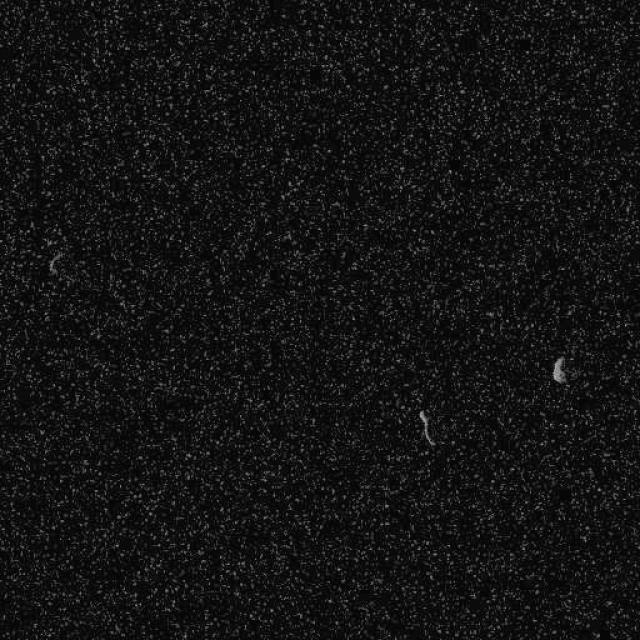D2: (416, 408, 436, 447), (550, 355, 568, 385), (46, 250, 62, 276)
